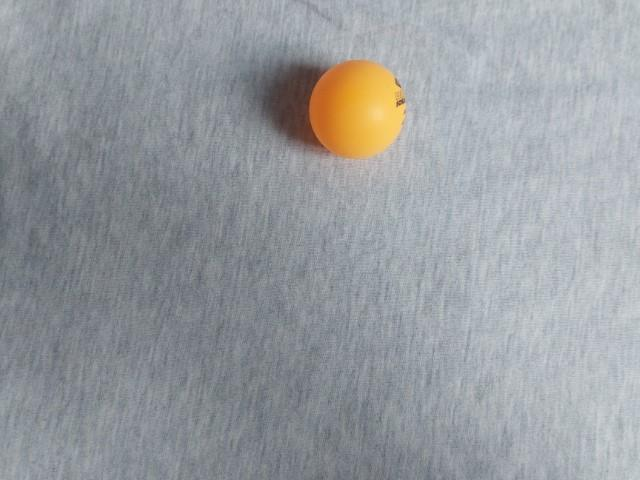oball: (222, 313, 338, 425)
